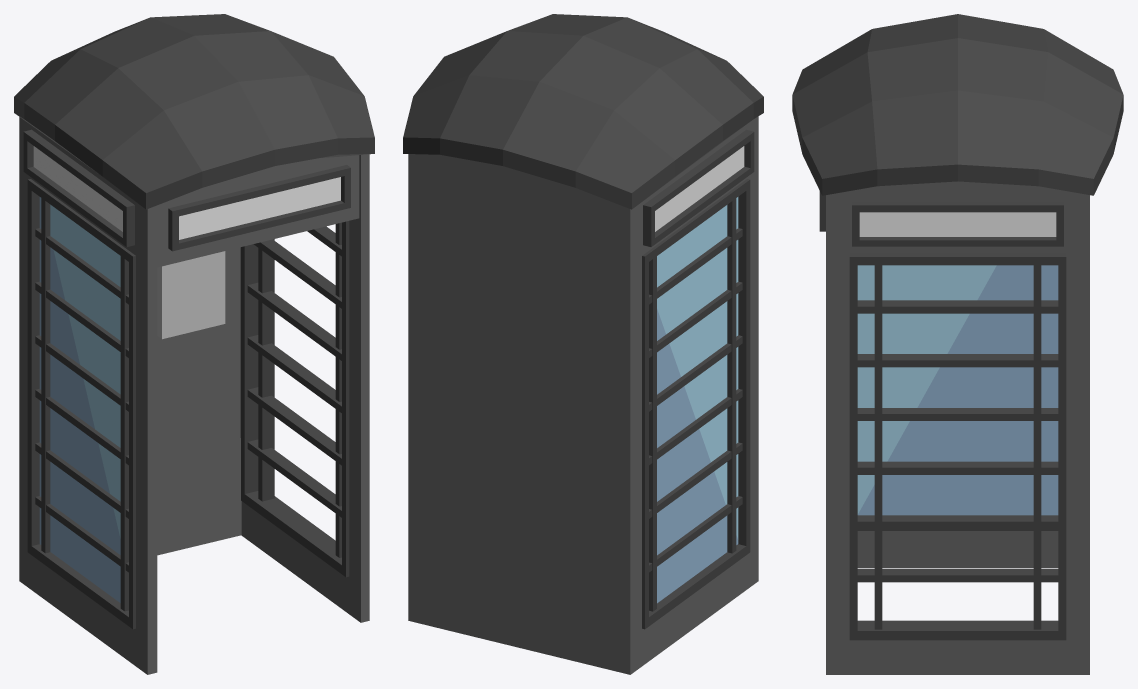
File: phone_box_001.fbx
3 views of the same model, side by side, from view 1: azimuth 30°, elevation 25°; view 2: azimuth 150°, elevation 25°; view 3: azimuth 270°, elevation 25° (orthographic). The views are drawn at different scales.
Visible parts, largest first — view 1: phone_box_001; view 2: phone_box_001; view 3: phone_box_001.
Boxes of the visible parts, <box> form: phone_box_001: <box>14,14,374,674</box>; phone_box_001: <box>403,14,763,674</box>; phone_box_001: <box>792,14,1123,674</box>.
Size of the model in its own units: 114 by 221 by 114.
